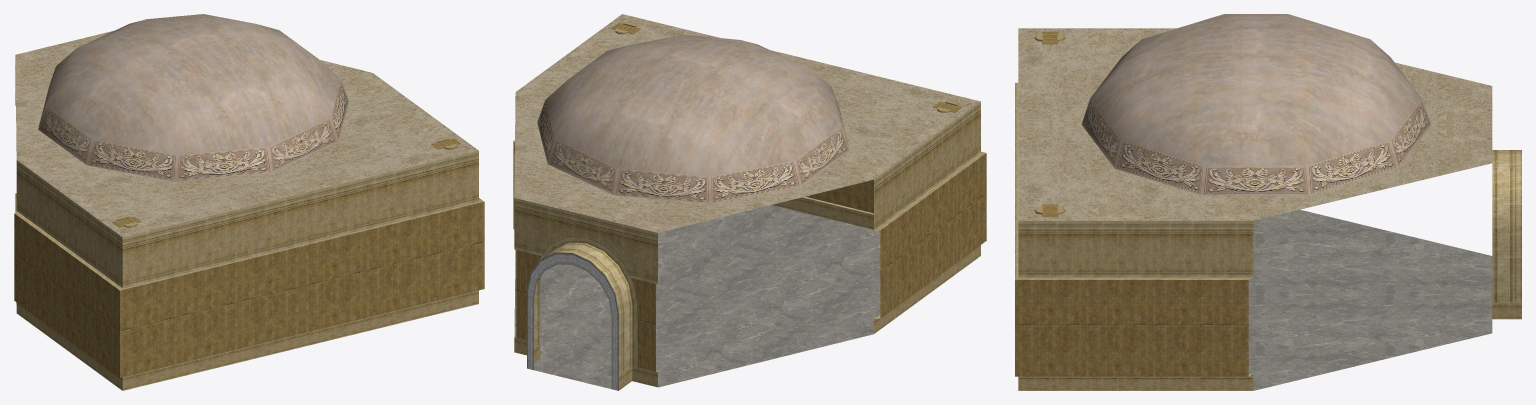
File: thm_nboo_thed_hangar_r2_lobby_mesh_r2.fbx
3 views of the same model, side by side, from view 1: azimuth 30°, elevation 25°; view 2: azimuth 150°, elevation 25°; view 3: azimuth 270°, elevation 25° (orthographic). The views are drawn at different scales.
Parts seen in each view (by area): view 1: mesh_node; view 2: mesh_node; view 3: mesh_node.
Part boxes in pixels (box(x1,y1,x2,y2)): mesh_node: box(14, 14, 484, 390); mesh_node: box(513, 14, 986, 390); mesh_node: box(1015, 14, 1521, 390).
Size of the model in its own units: 20.51 by 12.46 by 22.28.
